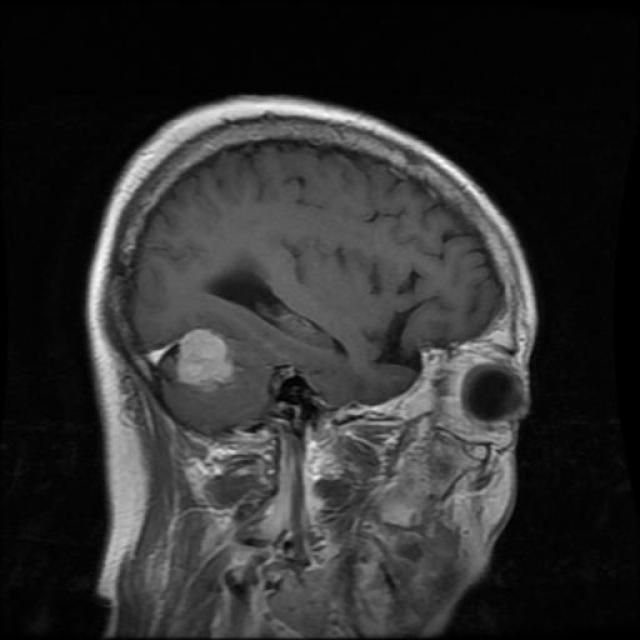meningioma: (174, 330, 234, 392)
